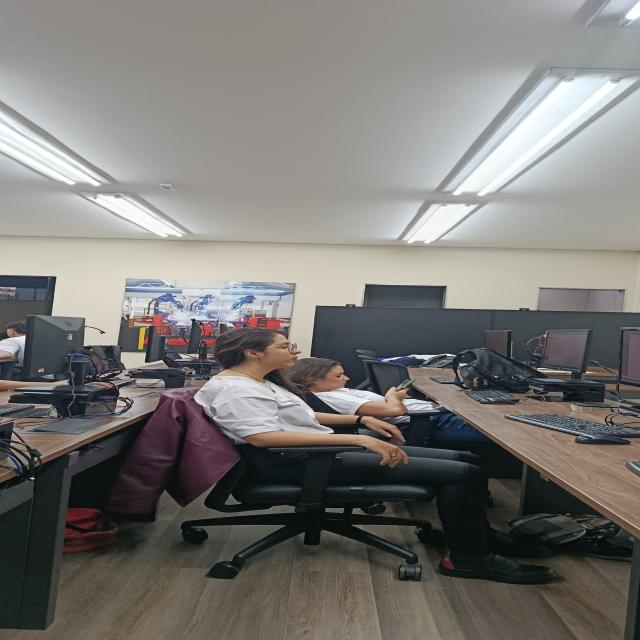sem_oculos: (253, 344, 298, 353), (323, 371, 348, 378)
